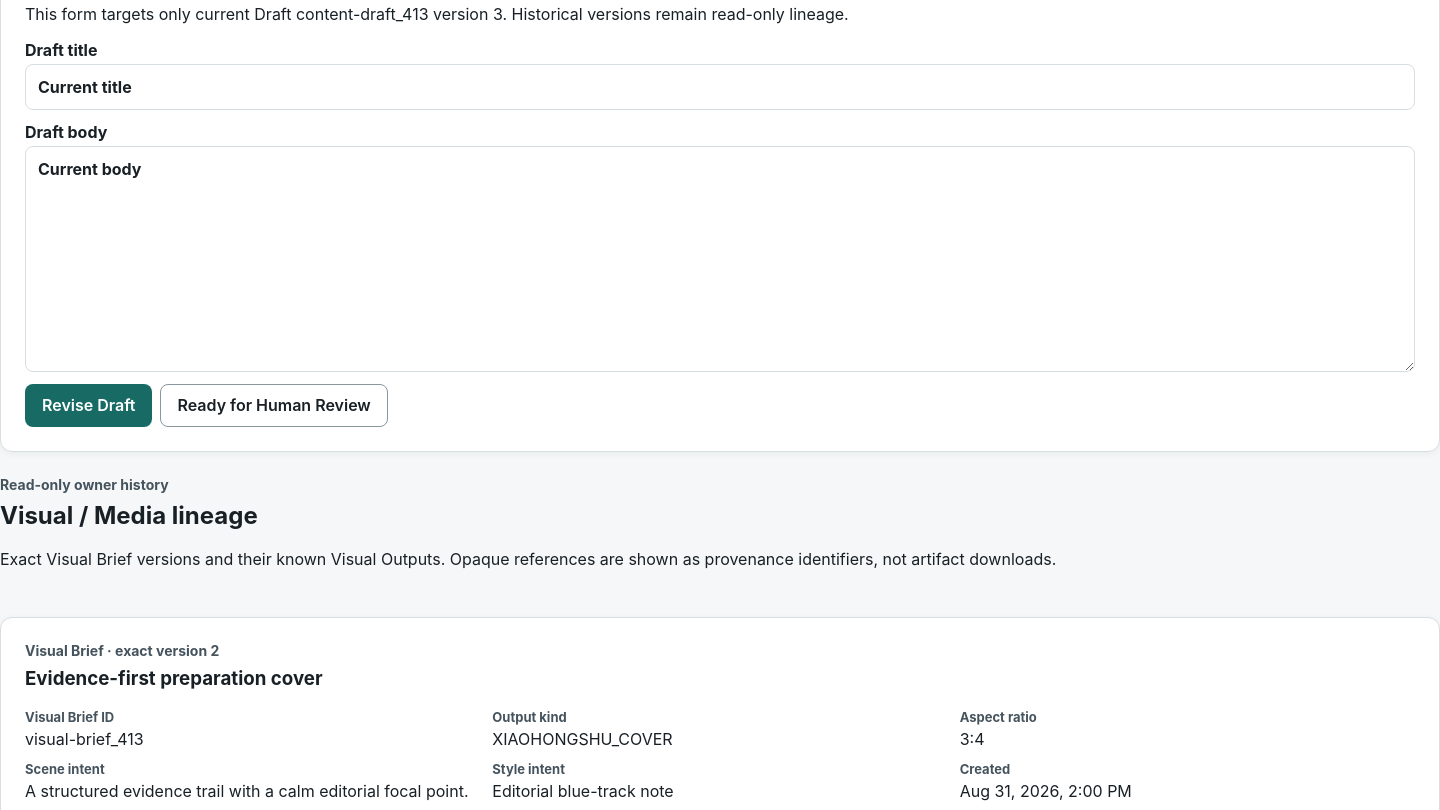
Test case: Content Studio workspace › targets only the exact current Draft for revision and Ready for Human Review
The width and height of the screenshot is (1440, 810).
(page scrolled)
Expected: the text "targets only current Draft content-draft_413 version 3" is shown, [25,4,849,24]
Click the button "Ready for Human Review".
click(274, 405)  # box [160,384,388,427]
(page scrolled)
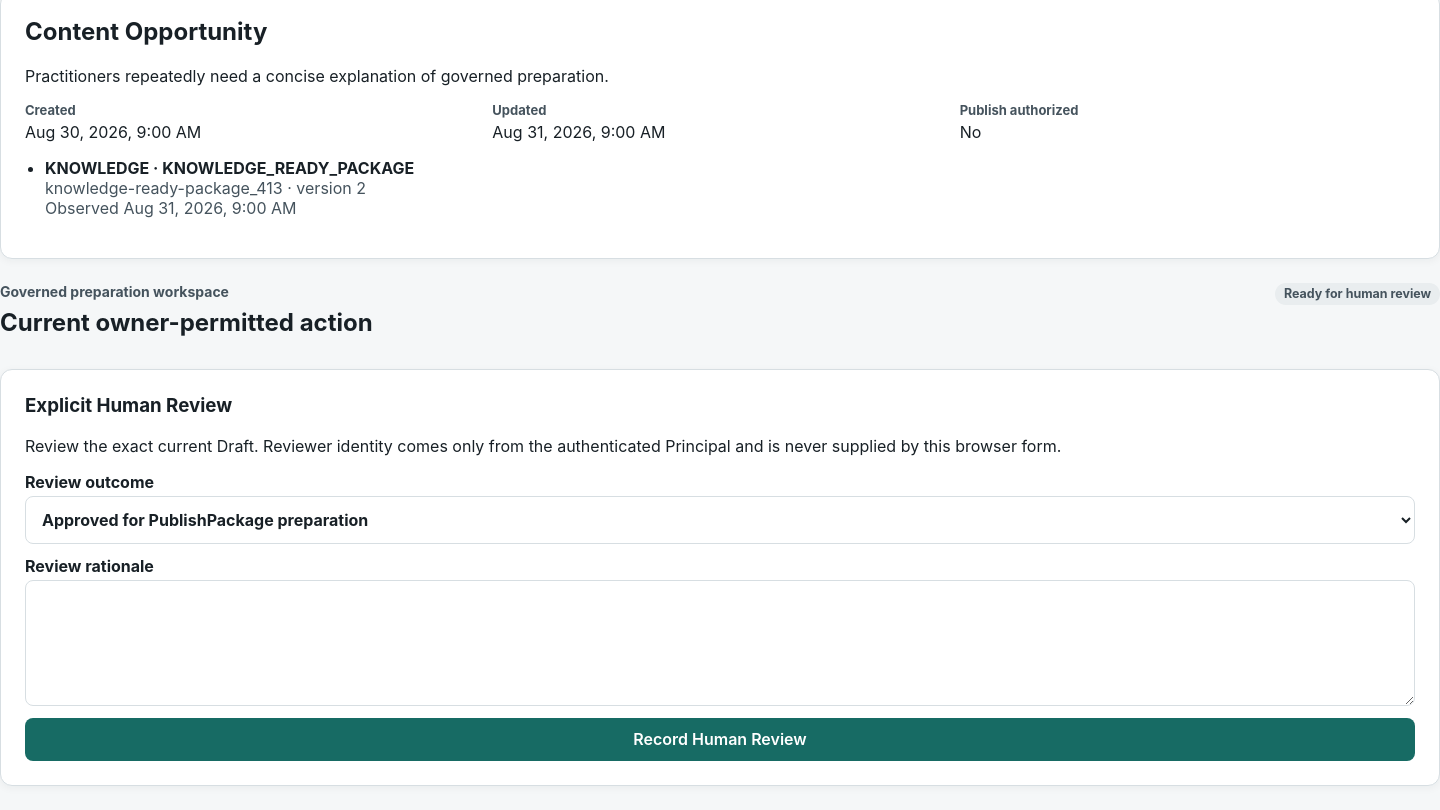
Expected: the heading "Explicit Human Review" is shown, [25,394,232,417]
